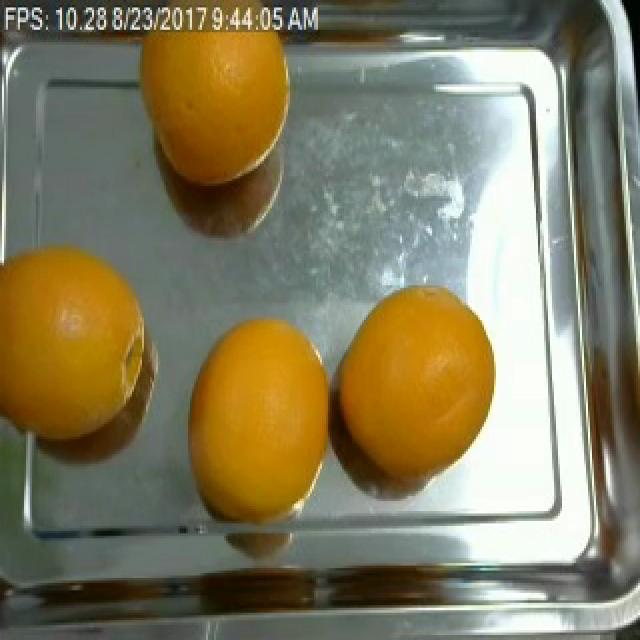Fruit: (124, 10, 318, 211), (174, 302, 332, 508)
